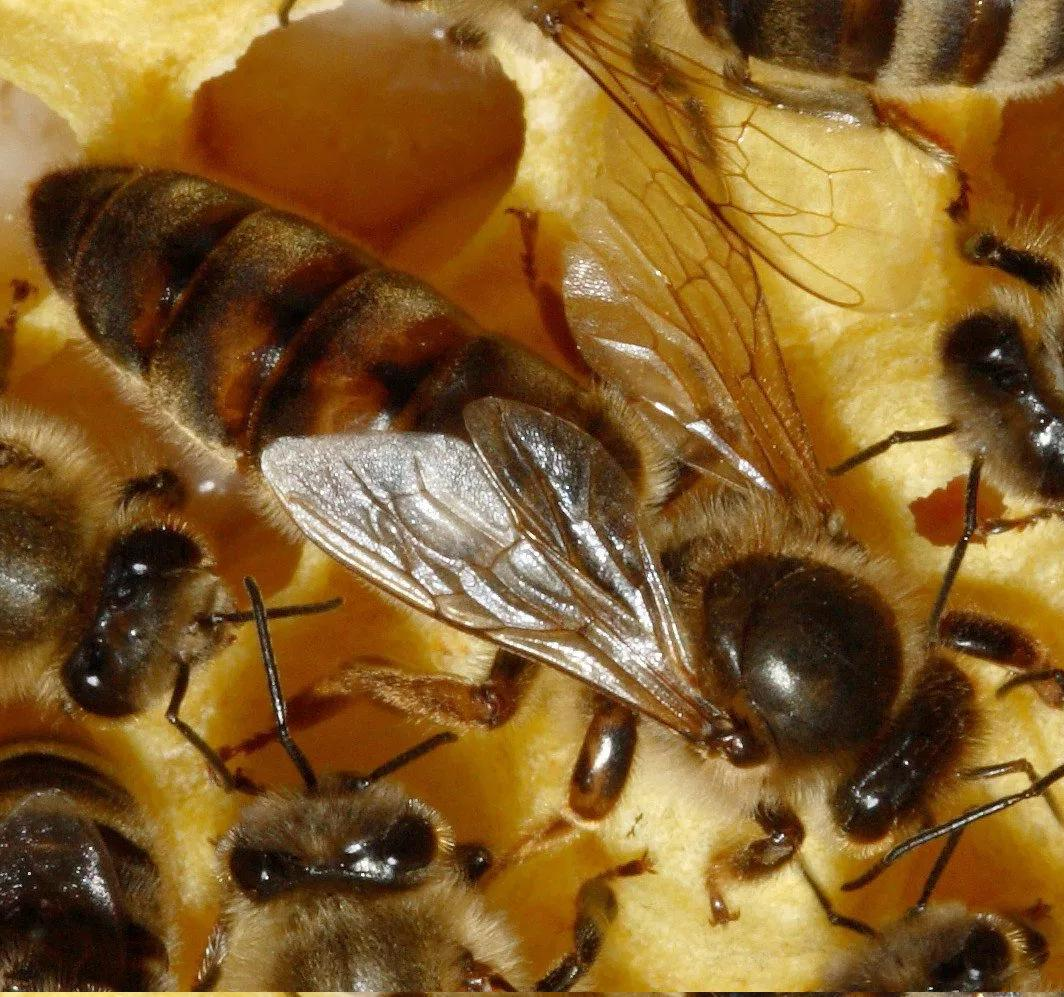Queen-Bee: (28, 126, 977, 850)
